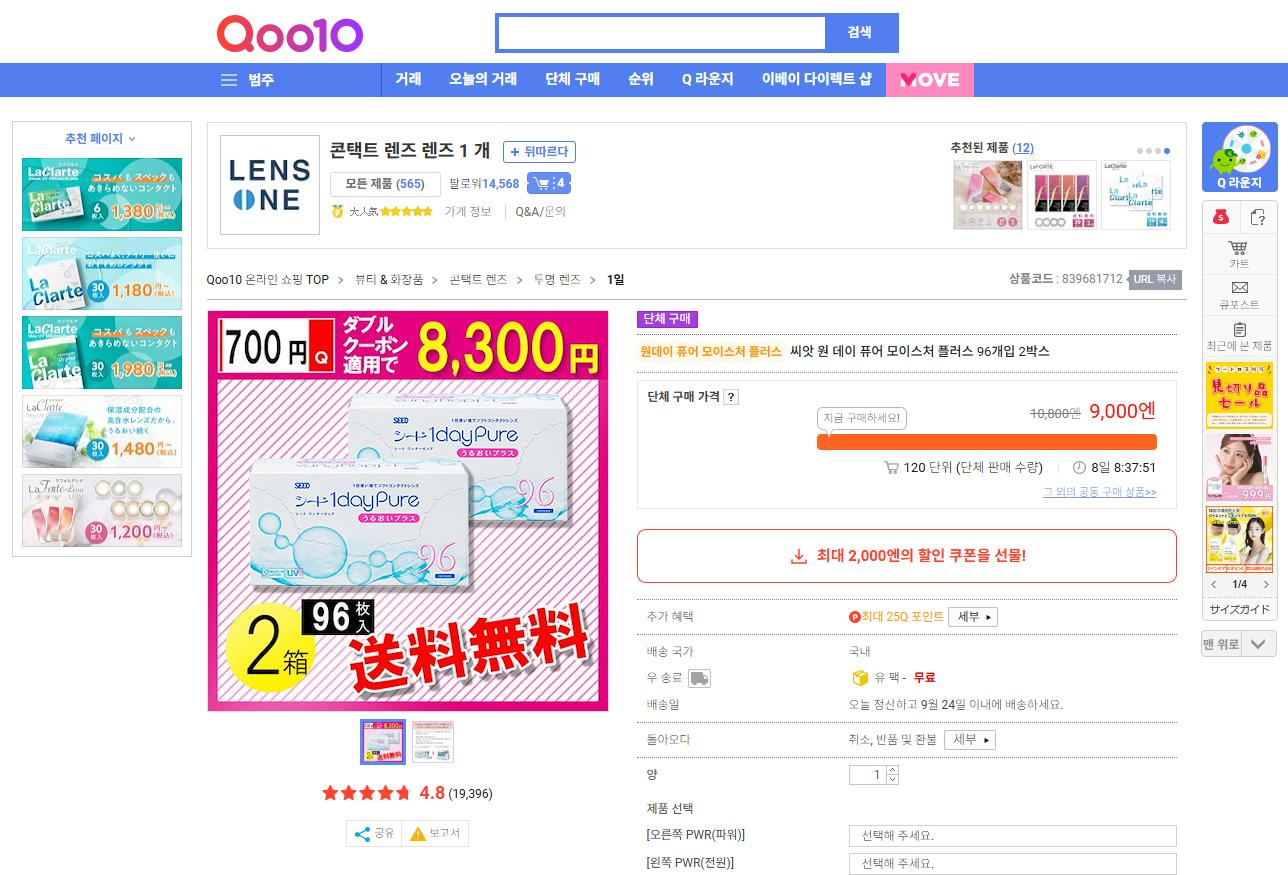button: (631, 531, 1165, 580), (1200, 119, 1288, 196), (749, 66, 873, 95), (453, 61, 531, 101), (1205, 278, 1280, 318), (350, 706, 402, 763), (895, 64, 988, 93), (1202, 236, 1275, 268), (388, 64, 442, 103), (348, 169, 441, 191), (1208, 323, 1269, 356), (1041, 490, 1190, 502), (505, 136, 576, 161), (410, 816, 475, 843), (540, 70, 600, 98), (421, 715, 455, 762), (661, 73, 739, 92), (349, 822, 401, 850), (1194, 630, 1265, 650), (1244, 204, 1278, 234), (623, 74, 662, 100), (945, 731, 997, 750), (1210, 203, 1244, 231), (844, 765, 895, 782), (520, 174, 566, 190), (946, 606, 986, 623), (721, 388, 751, 405), (1018, 139, 1042, 154), (1258, 576, 1271, 594), (1196, 584, 1219, 593)
input_field: (492, 11, 900, 54), (848, 828, 1175, 848), (851, 856, 1179, 871)
popup: (16, 121, 183, 555)
